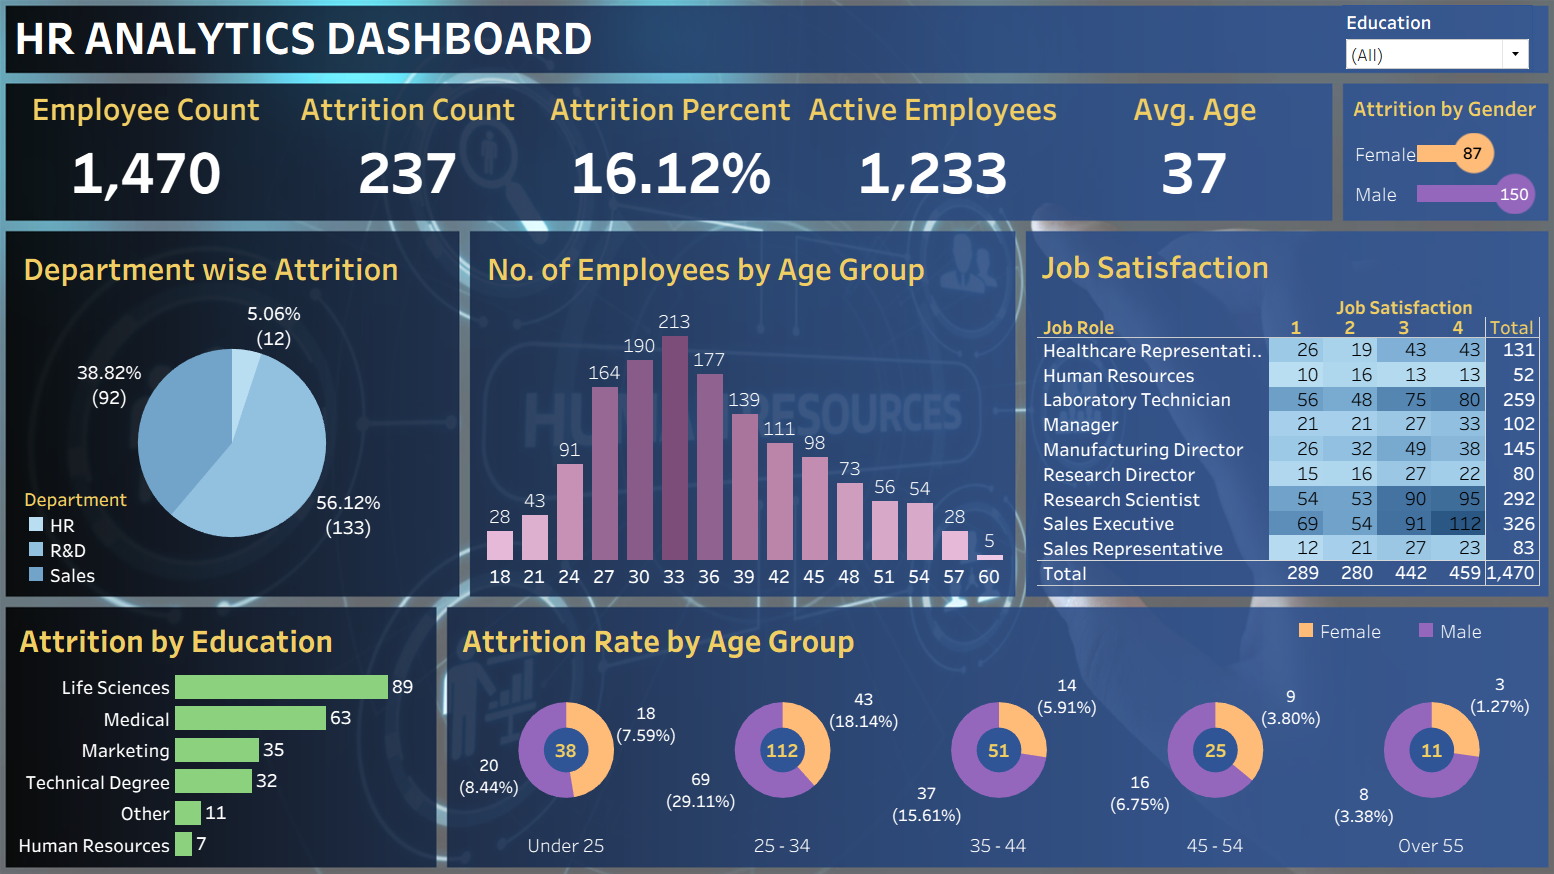

This screenshot's page, from the dashboard's own definition file:
{"tool":"tableau","page":{"name":"HR Analytics Dashboard","canvas":[1580,900],"ordinal":0},"visuals":[{"type":"image","param":"C:/Github/Tableau/HR Analytics/HR background.png","box":[8,8,1564,884]},{"type":"filter","title":"Attrition Rate by Age Group","param":"[federated.1sah1c0153xuw01h7ymi51ixn1fm].[none:Education:nk]","box":[1355,18,191,67]},{"type":"text","box":[23,23,661,53]},{"type":"worksheet","title":"KPI","mark":"Text","box":[28,101,1311,126]},{"type":"worksheet","title":"Attrition by Gender","mark":"Bar","rows":["Gender"],"cols":["Calculation_1581407615582208","Calculation_1581407615582208"],"box":[1362,103,192,124]},{"type":"worksheet","title":"Job Satisfaction","mark":"Square","rows":["Job Role"],"cols":["Job Satisfaction"],"box":[1050,254,503,345]},{"type":"worksheet","title":"Department wise Attrition","mark":"Pie","box":[32,256,426,344]},{"type":"worksheet","title":"No. of Employees by Age Group","mark":"Automatic","rows":["Employee Count"],"cols":["Age (bin)"],"box":[496,256,524,346]},{"type":"legend","title":"Department wise Attrition","param":"[federated.1sah1c0153xuw01h7ymi51ixn1fm].[none:Department:nk]","box":[37,499,108,101]},{"type":"worksheet","title":"Attrition by Education","mark":"Automatic","rows":["Education Field"],"cols":["Calculation_1581407615582208"],"box":[28,628,414,245]},{"type":"worksheet","title":"Attrition Rate by Age Group","mark":"Pie","rows":["Calculation_1581407696752644","Calculation_1581407696752644"],"cols":["CF_age band"],"box":[471,628,1082,243]},{"type":"legend","title":"Attrition Rate by Age Group","param":"[federated.1sah1c0153xuw01h7ymi51ixn1fm].[none:Gender:nk]","box":[1307,631,244,45]}]}

Visuals, with their boxes in screenshot pixels (x1, y1, x2, y2), scaled from the page's 1580x900 canvas onto the 1554x874 screenshot:
image: rect(8, 8, 1546, 866)
"Attrition Rate by Age Group" filter: rect(1333, 17, 1521, 83)
text: rect(23, 22, 673, 74)
"KPI" worksheet (Text marks): rect(28, 98, 1317, 220)
"Attrition by Gender" worksheet (Bar marks): rect(1340, 100, 1528, 220)
"Job Satisfaction" worksheet (Square marks): rect(1033, 247, 1527, 582)
"Department wise Attrition" worksheet (Pie marks): rect(31, 249, 450, 583)
"No. of Employees by Age Group" worksheet: rect(488, 249, 1003, 585)
"Department wise Attrition" legend: rect(36, 485, 143, 583)
"Attrition by Education" worksheet: rect(28, 610, 435, 848)
"Attrition Rate by Age Group" worksheet (Pie marks): rect(463, 610, 1527, 846)
"Attrition Rate by Age Group" legend: rect(1285, 613, 1525, 656)
